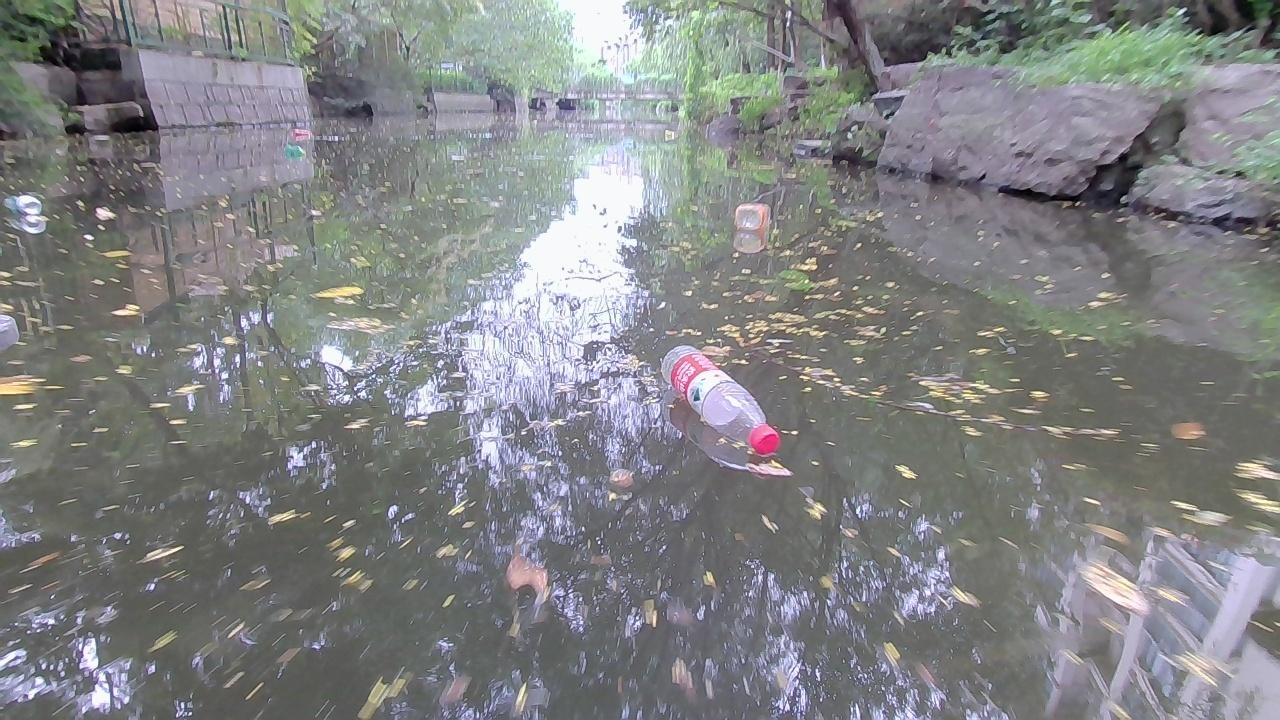bottle: (653, 343, 776, 450), (731, 200, 770, 227), (3, 192, 44, 216), (290, 127, 312, 142), (283, 141, 304, 156), (663, 128, 672, 141)
